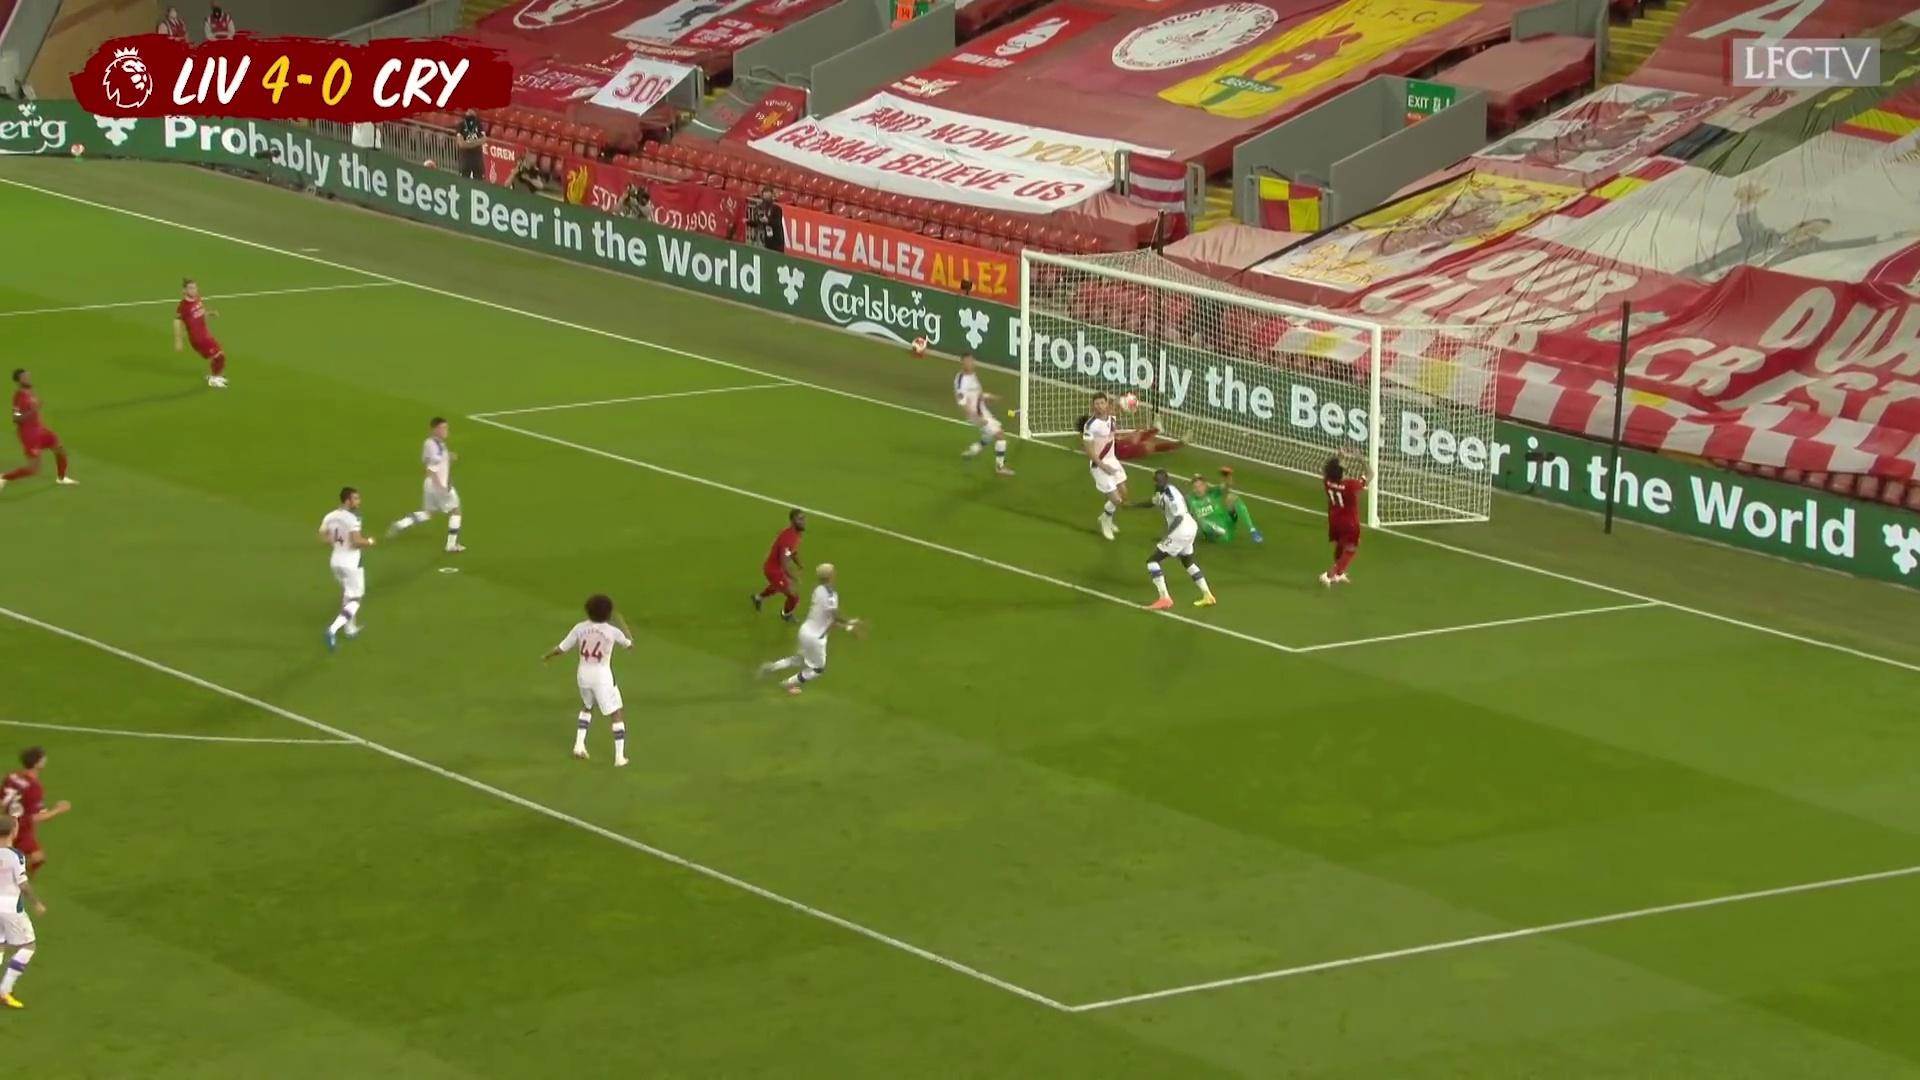ball: (1120, 391, 1140, 414), (910, 334, 928, 359), (67, 140, 88, 160)
goalkeeper: (1167, 469, 1271, 547)
player: (549, 590, 645, 771), (762, 564, 863, 701), (0, 739, 75, 916), (387, 412, 475, 558), (1145, 471, 1223, 614), (320, 486, 385, 653), (0, 363, 83, 493), (0, 821, 50, 1011), (1312, 451, 1376, 589), (955, 356, 1025, 481), (746, 506, 815, 631), (1080, 391, 1131, 542), (168, 278, 233, 393), (1072, 410, 1200, 465)
